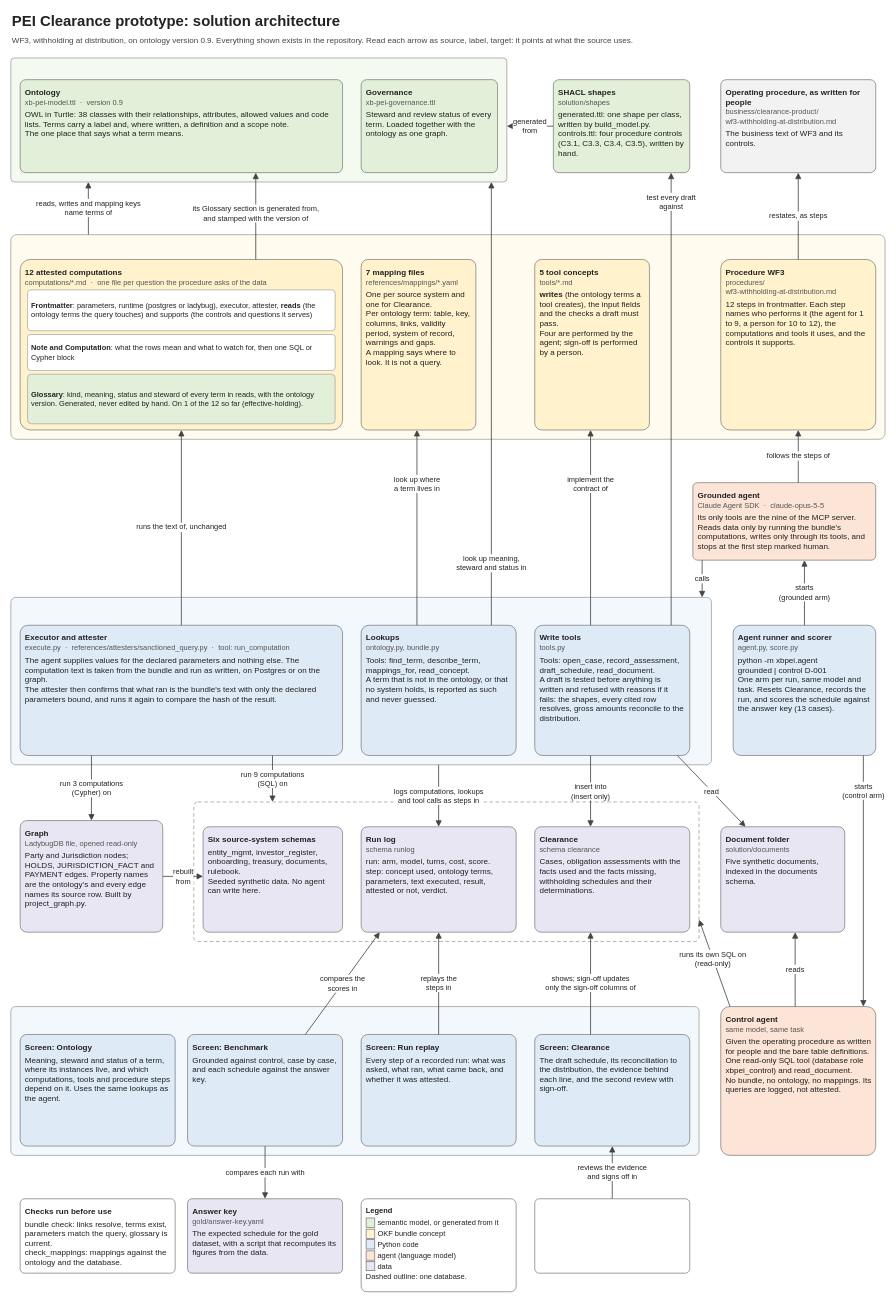
Image size: 896x1303. Some labels were removed from this diagram. The shapes that lost their labels are listed below. From the top down, each one's box as (x1, y1, x2, y2) in pixels, then its label:
(10, 57, 507, 182): Semantic model · model/
(10, 234, 885, 439): OKF v0.2 bundle · solution/bundle
(10, 597, 711, 765): MCP server “clearance” · xbpei/
(193, 801, 699, 941): One Postgres 17 database, in Docker
(10, 1006, 699, 1155): Review app · app.py (Streamlit) · role xbpei_reviewer
(534, 1198, 690, 1273): Tax reviewer A person, and not the preparer of the schedule (control C3.5).
